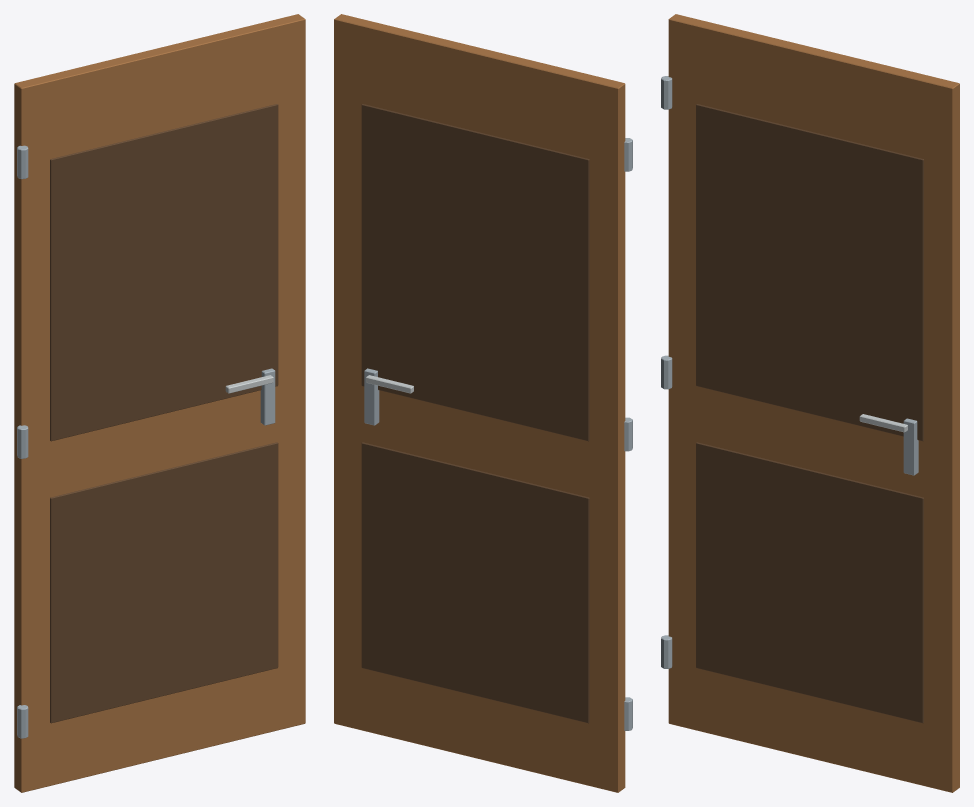
Rendered from b21_door_leaf_wood_900mm.glb.
3 renders of one model, left to right at view 1: azimuth 30°, elevation 25°; view 2: azimuth 150°, elevation 25°; view 3: azimuth 330°, elevation 25°, orthographic.
Visible parts, largest first — view 1: b21_door_leaf_wood_900mm; view 2: b21_door_leaf_wood_900mm; view 3: b21_door_leaf_wood_900mm.
Part boxes in pixels (<box>): b21_door_leaf_wood_900mm: <box>14,14,305,792</box>; b21_door_leaf_wood_900mm: <box>334,14,632,792</box>; b21_door_leaf_wood_900mm: <box>661,14,959,792</box>.
Size of the model in its own units: 0.916 by 2.13 by 0.128.
